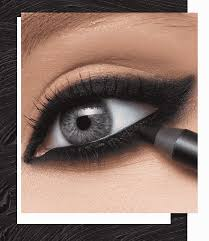pupil: (59, 99, 111, 143)
